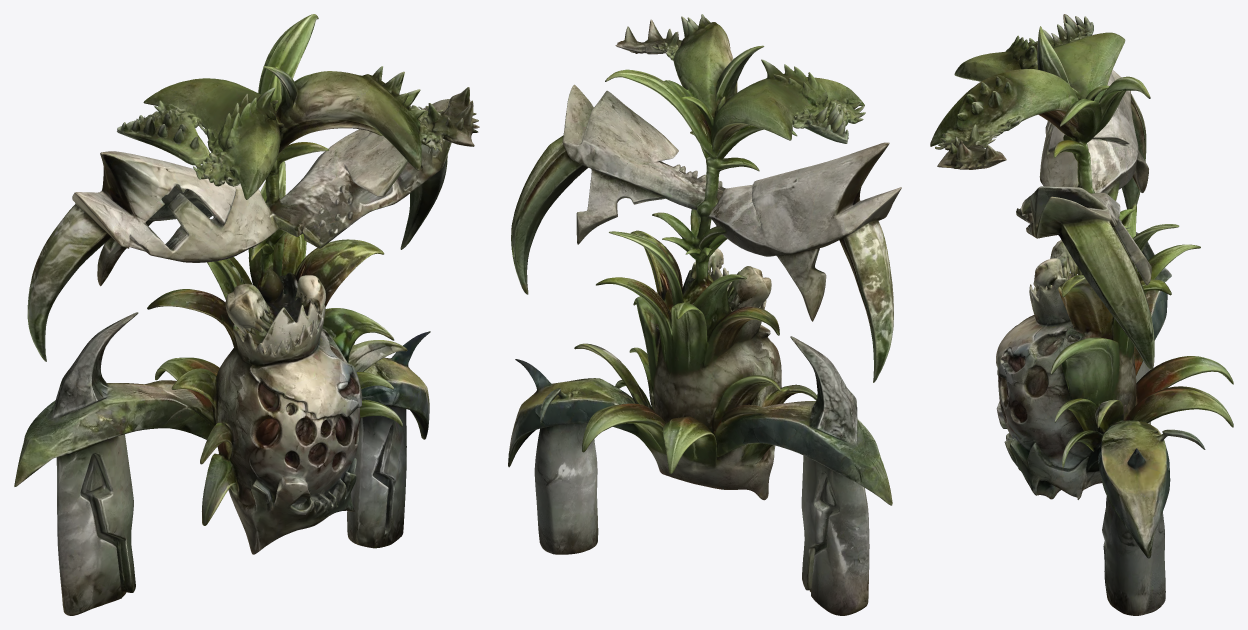
File: IronBloom.glb
3 views of the same model, side by side, from view 1: azimuth 30°, elevation 25°; view 2: azimuth 150°, elevation 25°; view 3: azimuth 270°, elevation 25° (orthographic). The views are drawn at different scales.
Size of the model in its own units: 1.51 by 1.9 by 1.03.
1 material, 1 textured.
